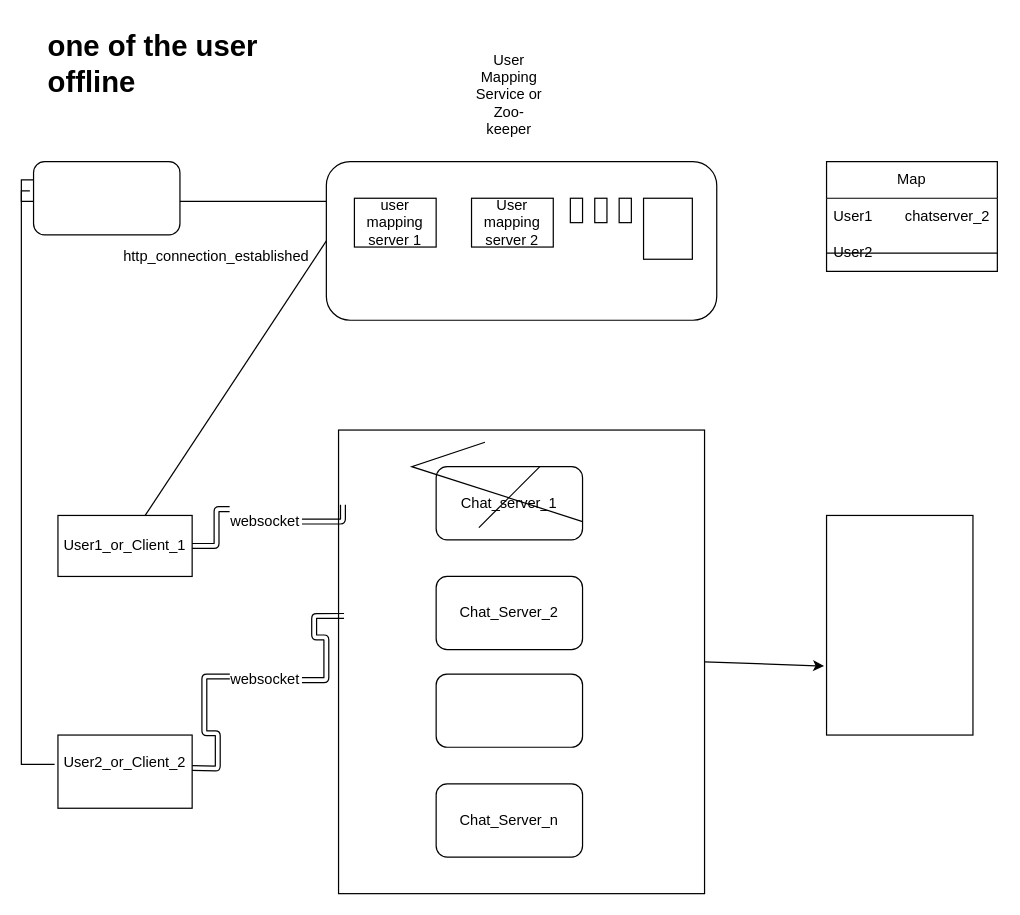
Some shapes in this 1020 by 915 pixel diagram are drawn without their labels. The centre of each missing label's shape, as x and y in pixels:
"Chat_Server_3" goes at point 509,710.
"DB (no sql)" goes at point 899,624.
"Login" goes at point 106,197.
"User mapping server n" goes at point 667,228.
